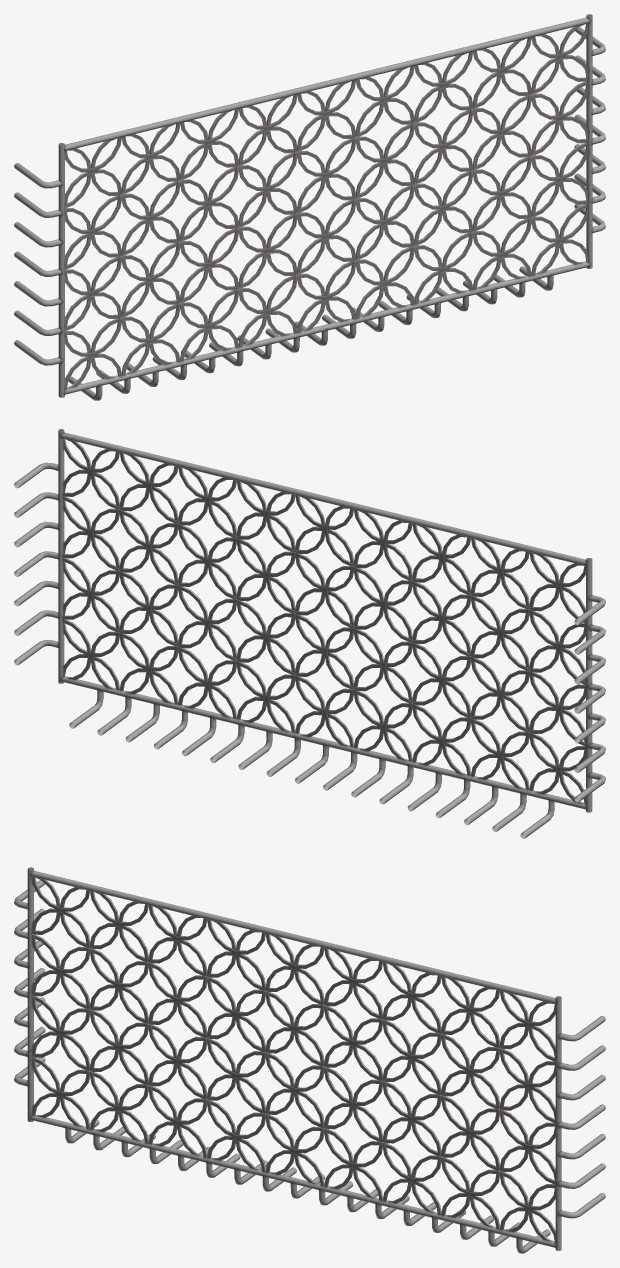
File: Iron_window_v3.fbx
The picture shows the model from 3 angles, top to bottom: view 1: azimuth 30°, elevation 25°; view 2: azimuth 150°, elevation 25°; view 3: azimuth 330°, elevation 25°; orthographic projection.
Parts seen in each view (by area): view 1: Iron_window_v3; view 2: Iron_window_v3; view 3: Iron_window_v3.
Part boxes in pixels (left/top/right/bottom): Iron_window_v3: left=14, top=14, right=605, bottom=400; Iron_window_v3: left=14, top=429, right=605, bottom=838; Iron_window_v3: left=14, top=867, right=605, bottom=1253.
Bounding box in the file's own units: 562 × 254 × 51.79.
